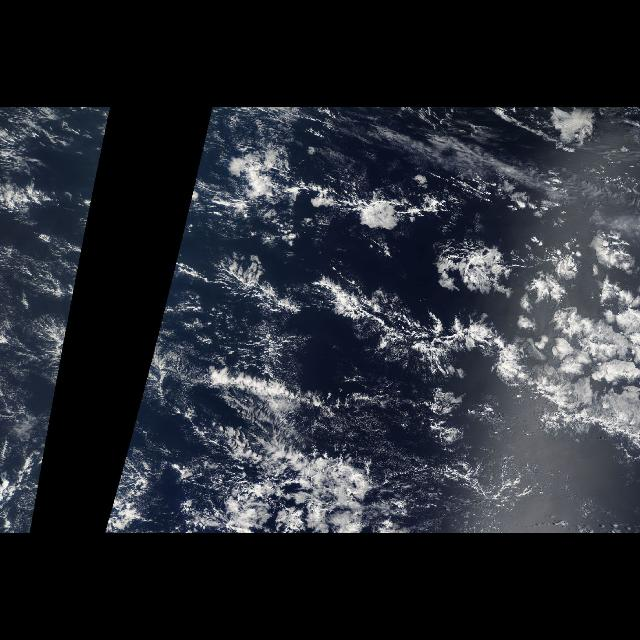Fish: (192, 248, 514, 444)
Flower: (426, 230, 638, 436)
